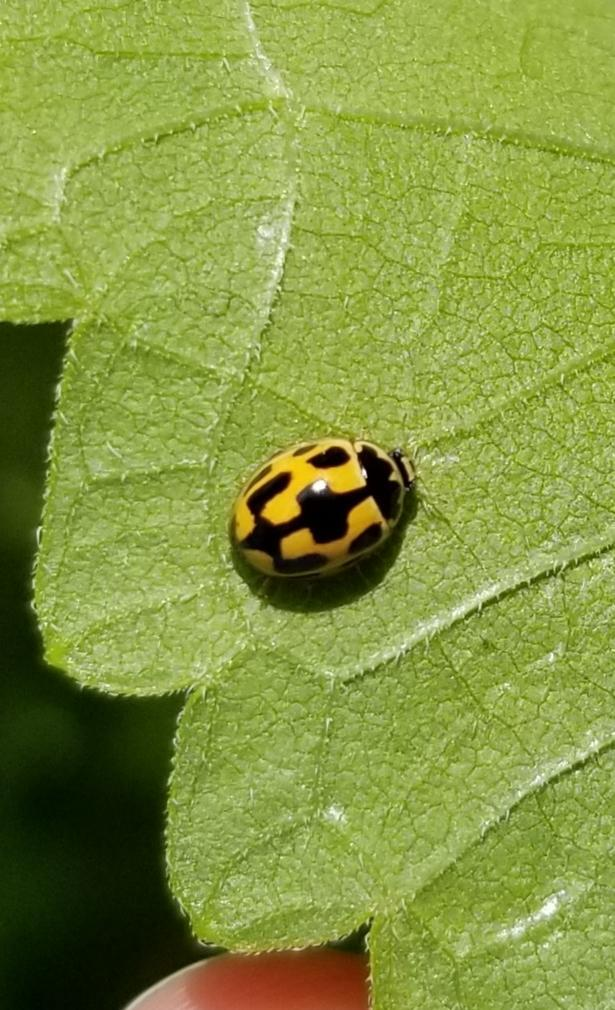ladybug: (226, 431, 424, 591)
